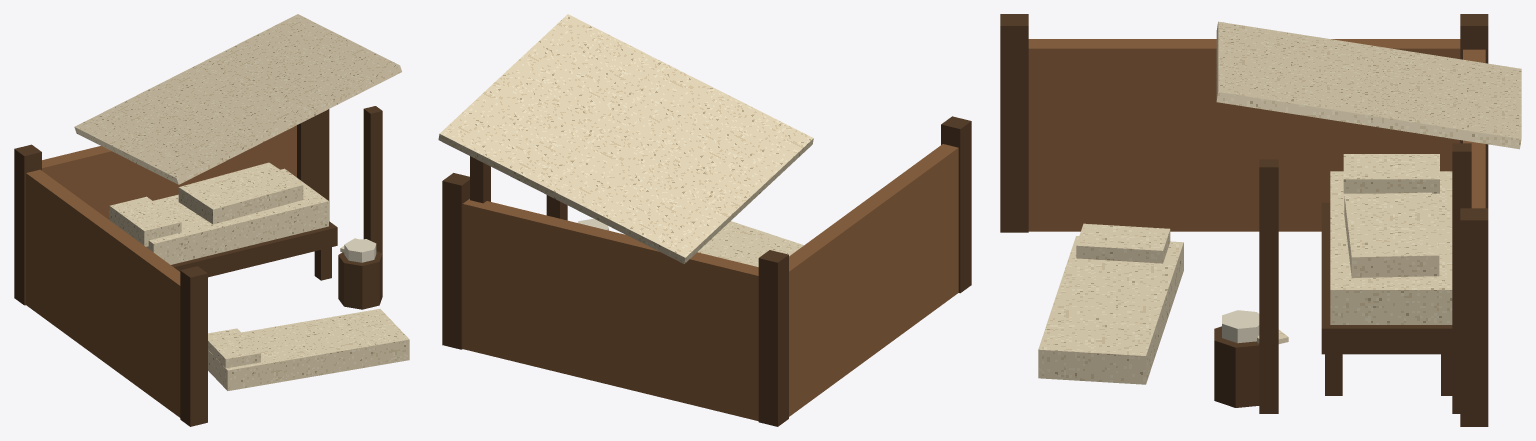
Rendered from asylum_corner_t1.glb.
3 renders of one model, left to right at view 1: azimuth 30°, elevation 25°; view 2: azimuth 150°, elevation 25°; view 3: azimuth 270°, elevation 25°, orthographic. The views are drawn at different scales.
Parts seen in each view (by area): view 1: awning, wall_left, ground_bedroll, wall_back, cot_bedroll, blanket_lump, wall_post_2, cot_frame, awning_pole_0, wall_post_0, cot_pillow, stool (+5 smaller); view 2: awning, wall_back, wall_left, wall_post_0, wall_post_1, wall_post_2, ground_bedroll, awning_pole_1; view 3: wall_left, awning, ground_bedroll, cot_bedroll, blanket_lump, wall_post_1, wall_post_2, cot_frame, awning_pole_0, cot_pillow, ground_pillow, awning_pole_1 (+6 smaller).
Boxes of the visible parts, x1,y1,x2,y2 form: awning: [74, 14, 401, 184]; wall_left: [26, 169, 180, 417]; ground_bedroll: [208, 309, 409, 390]; wall_back: [42, 125, 296, 219]; cot_bedroll: [109, 168, 328, 264]; blanket_lump: [178, 162, 303, 224]; wall_post_2: [180, 266, 207, 426]; cot_frame: [171, 221, 337, 277]; awning_pole_0: [363, 106, 382, 253]; wall_post_0: [14, 144, 41, 305]; cot_pillow: [109, 196, 181, 246]; stool: [338, 251, 382, 309]; awning: [438, 14, 813, 263]; wall_back: [462, 199, 758, 421]; wall_left: [789, 144, 958, 416]; wall_post_0: [758, 250, 788, 426]; wall_post_1: [442, 173, 469, 349]; wall_post_2: [941, 116, 971, 293]; ground_bedroll: [697, 221, 803, 266]; awning_pole_1: [470, 156, 490, 203]; wall_left: [1028, 39, 1460, 231]; awning: [1216, 21, 1521, 149]; ground_bedroll: [1038, 236, 1183, 384]; cot_bedroll: [1330, 171, 1452, 324]; blanket_lump: [1344, 192, 1439, 277]; wall_post_1: [1460, 208, 1488, 426]; wall_post_2: [1000, 14, 1028, 232]; cot_frame: [1321, 202, 1452, 354]; awning_pole_0: [1259, 159, 1278, 413]; cot_pillow: [1343, 154, 1439, 193]; ground_pillow: [1076, 223, 1170, 263]; awning_pole_1: [1452, 143, 1471, 413].
Size of what is drawn, in the model's own units: 2.78 by 2.04 by 2.97.
4 materials, 1 textured.
